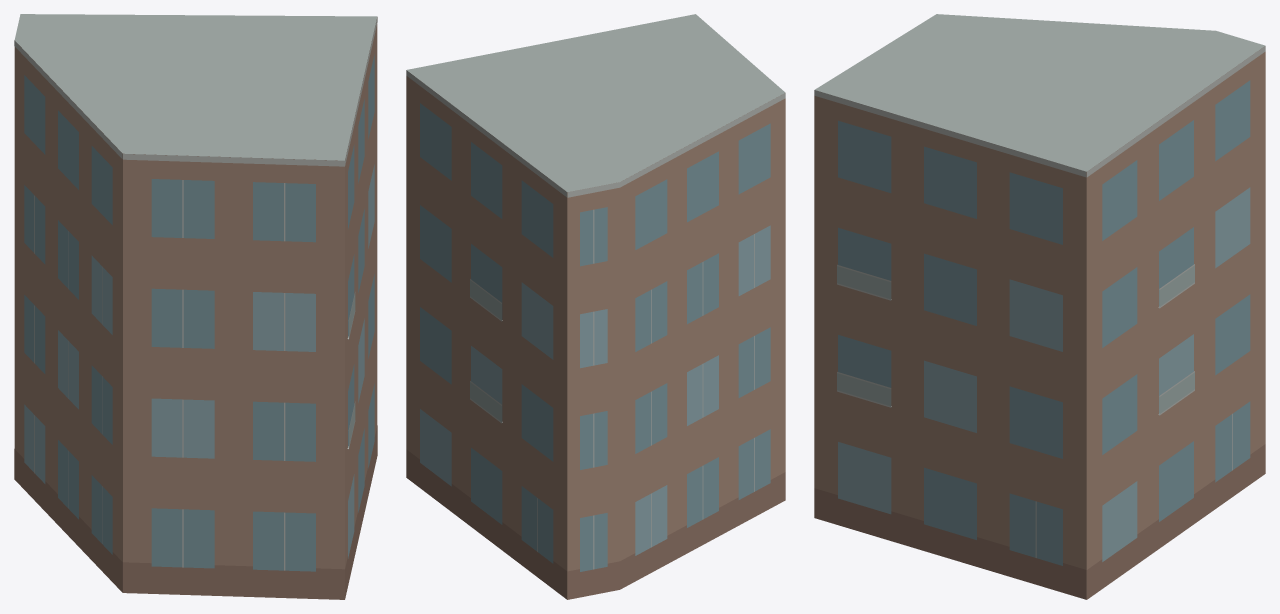
Rendered from survey-upis-32476805.glb.
3 views of the same model, side by side, from view 1: azimuth 30°, elevation 25°; view 2: azimuth 150°, elevation 25°; view 3: azimuth 270°, elevation 25° (orthographic). The views are drawn at different scales.
Parts seen in each view (by area): view 1: survey-upis-32476805.tmp; view 2: survey-upis-32476805.tmp; view 3: survey-upis-32476805.tmp.
Part boxes in pixels (left/top/right/bottom): survey-upis-32476805.tmp: left=14, top=14, right=377, bottom=599; survey-upis-32476805.tmp: left=406, top=14, right=785, bottom=599; survey-upis-32476805.tmp: left=814, top=14, right=1265, bottom=599.
Bounding box in the file's own units: 14.19 × 17.95 × 17.15.
